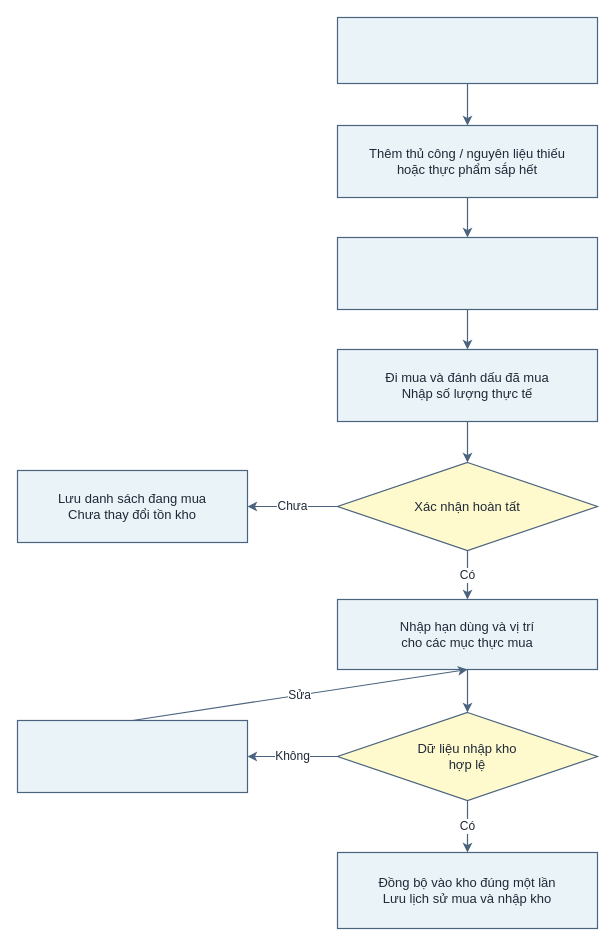
Image size: 616x947. Some labels were removed from this diagram. Each missing label, with the centre of its shape:
"Báo lỗi Bổ sung dữ liệu" belongs at [132,756].
"Mở danh sách mua sắm" belongs at [467,50].
"Sửa số lượng dự kiến Phân loại và tra cứu danh sách" belongs at [467,273].
